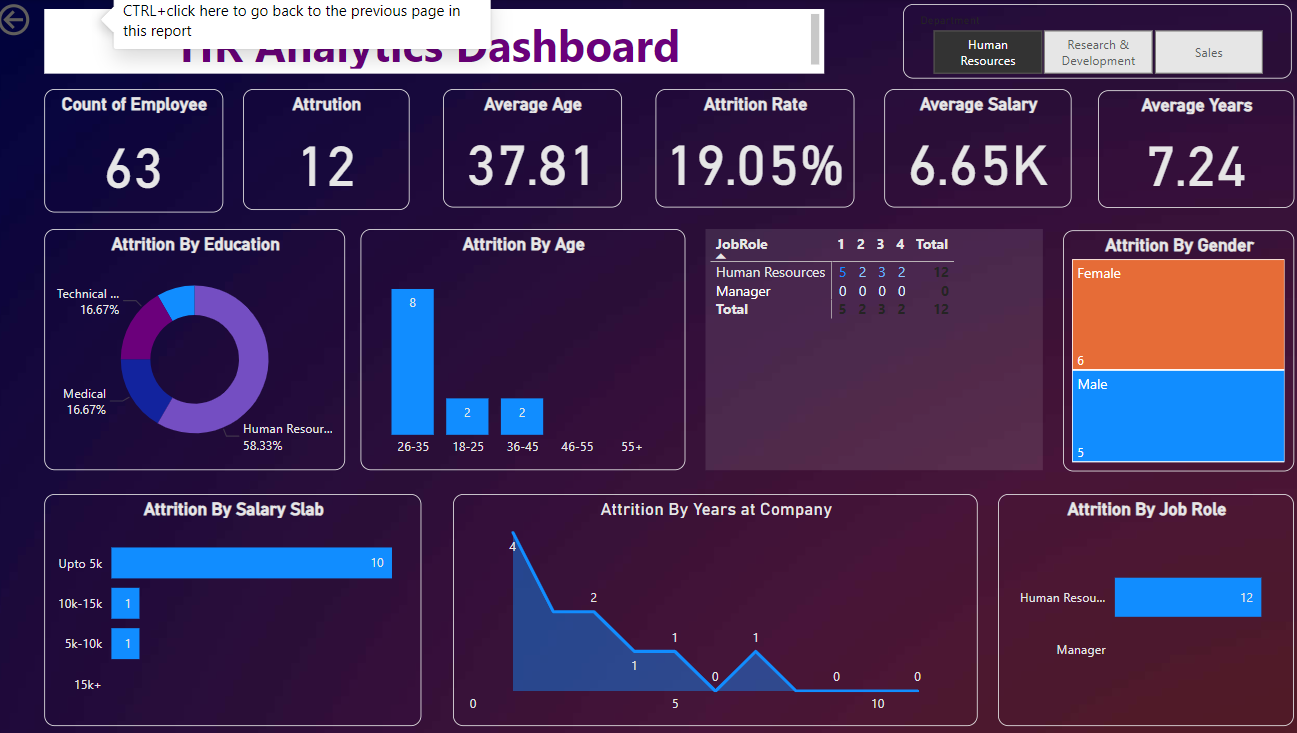

This screenshot's page, from the dashboard's own definition file:
{"tool":"powerbi","page":{"name":"Page 1","canvas":[1280,720],"ordinal":0},"visuals":[{"type":"card","title":"Count of Employee","fields":{"Values":["Count(7a5f8a70601fe8b9aa7da4b33702ad3.EmpID)"]},"box":[49.5,86.9,172.5,119.4],"z":0},{"type":"card","title":"Average Age","fields":{"Values":["Avg(7a5f8a70601fe8b9aa7da4b33702ad3.Age)"]},"box":[434.3,86.9,172.5,114.6],"z":1000},{"type":"card","title":"Attrution","fields":{"Values":["Sum(7a5f8a70601fe8b9aa7da4b33702ad3.AttritionCount)"]},"box":[241.3,86.9,160.5,117],"z":2000},{"type":"card","title":"Attrition Rate","fields":{"Values":["7a5f8a70601fe8b9aa7da4b33702ad3.AttritionRate"]},"box":[639.4,86.9,191.8,114.6],"z":3000},{"type":"actionButton","box":[0,0,100,40],"z":4000},{"type":"card","title":"Average Salary","fields":{"Values":["Avg(7a5f8a70601fe8b9aa7da4b33702ad3.MonthlyIncome)"]},"box":[860.2,86.9,181,114.6],"z":5000},{"type":"card","title":"Average Years","fields":{"Values":["Avg(7a5f8a70601fe8b9aa7da4b33702ad3.YearsAtCompany)"]},"box":[1066.5,88.1,189.4,113.4],"z":6000},{"type":"donutChart","title":"Attrition By Education","fields":{"Category":["7a5f8a70601fe8b9aa7da4b33702ad3.EducationField"],"Y":["Sum(7a5f8a70601fe8b9aa7da4b33702ad3.AttritionCount)"]},"box":[49.5,222,290.8,232.8],"z":7000},{"type":"clusteredColumnChart","title":"Attrition By Age","fields":{"Category":["7a5f8a70601fe8b9aa7da4b33702ad3.AgeGroup"],"Y":["Sum(7a5f8a70601fe8b9aa7da4b33702ad3.AttritionCount)"]},"box":[354.7,222,313.7,232.8],"z":8000},{"type":"pivotTable","fields":{"Rows":["7a5f8a70601fe8b9aa7da4b33702ad3.JobRole"],"Columns":["7a5f8a70601fe8b9aa7da4b33702ad3.JobSatisfaction"],"Values":["Sum(7a5f8a70601fe8b9aa7da4b33702ad3.AttritionCount)"]},"box":[687.7,222,325.7,232.8],"z":9000},{"type":"clusteredBarChart","title":"Attrition By Salary Slab","fields":{"Category":["7a5f8a70601fe8b9aa7da4b33702ad3.SalarySlab"],"Y":["Sum(7a5f8a70601fe8b9aa7da4b33702ad3.AttritionCount)"]},"box":[49.5,477.8,364.3,224.4],"z":10000},{"type":"clusteredBarChart","title":"Attrition By Job Role","fields":{"Y":["Sum(7a5f8a70601fe8b9aa7da4b33702ad3.AttritionCount)"],"Category":["7a5f8a70601fe8b9aa7da4b33702ad3.JobRole"]},"box":[970,477.8,285.9,224.4],"z":11000},{"type":"areaChart","title":"Attrition By Years at Company","fields":{"Y":["Sum(7a5f8a70601fe8b9aa7da4b33702ad3.AttritionCount)"],"Category":["7a5f8a70601fe8b9aa7da4b33702ad3.YearsAtCompany"]},"box":[444,477.8,506.7,224.4],"z":12000},{"type":"treemap","title":"Attrition By Gender","fields":{"Values":["Sum(7a5f8a70601fe8b9aa7da4b33702ad3.AttritionCount)"],"Group":["7a5f8a70601fe8b9aa7da4b33702ad3.Gender"]},"box":[1032.7,223.2,223.2,232.8],"z":13000},{"type":"slicer","fields":{"Values":["7a5f8a70601fe8b9aa7da4b33702ad3.Department"]},"box":[878.3,4.8,375.2,72.4],"z":14000},{"type":"textbox","box":[49.5,9.7,752.8,62.7],"z":15000}]}

Visuals, with their boxes in screenshot pixels (x1, y1, x2, y2):
"Count of Employee" card: crop(41, 87, 220, 210)
"Average Age" card: crop(440, 87, 619, 205)
"Attrution" card: crop(240, 87, 406, 208)
"Attrition Rate" card: crop(652, 87, 851, 205)
actionButton: crop(0, 0, 93, 38)
"Average Salary" card: crop(881, 87, 1069, 205)
"Average Years" card: crop(1095, 88, 1291, 205)
"Attrition By Education" donutChart: crop(41, 227, 342, 468)
"Attrition By Age" clusteredColumnChart: crop(357, 227, 682, 468)
pivotTable - 7a5f8a70601fe8b9aa7da4b33702ad3.JobRole x 7a5f8a70601fe8b9aa7da4b33702ad3.JobSatisfaction: crop(702, 227, 1040, 468)
"Attrition By Salary Slab" clusteredBarChart: crop(41, 492, 419, 724)
"Attrition By Job Role" clusteredBarChart: crop(995, 492, 1291, 724)
"Attrition By Years at Company" areaChart: crop(450, 492, 975, 724)
"Attrition By Gender" treemap: crop(1060, 228, 1291, 469)
slicer - 7a5f8a70601fe8b9aa7da4b33702ad3.Department: crop(900, 2, 1288, 77)
textbox: crop(41, 7, 821, 72)
